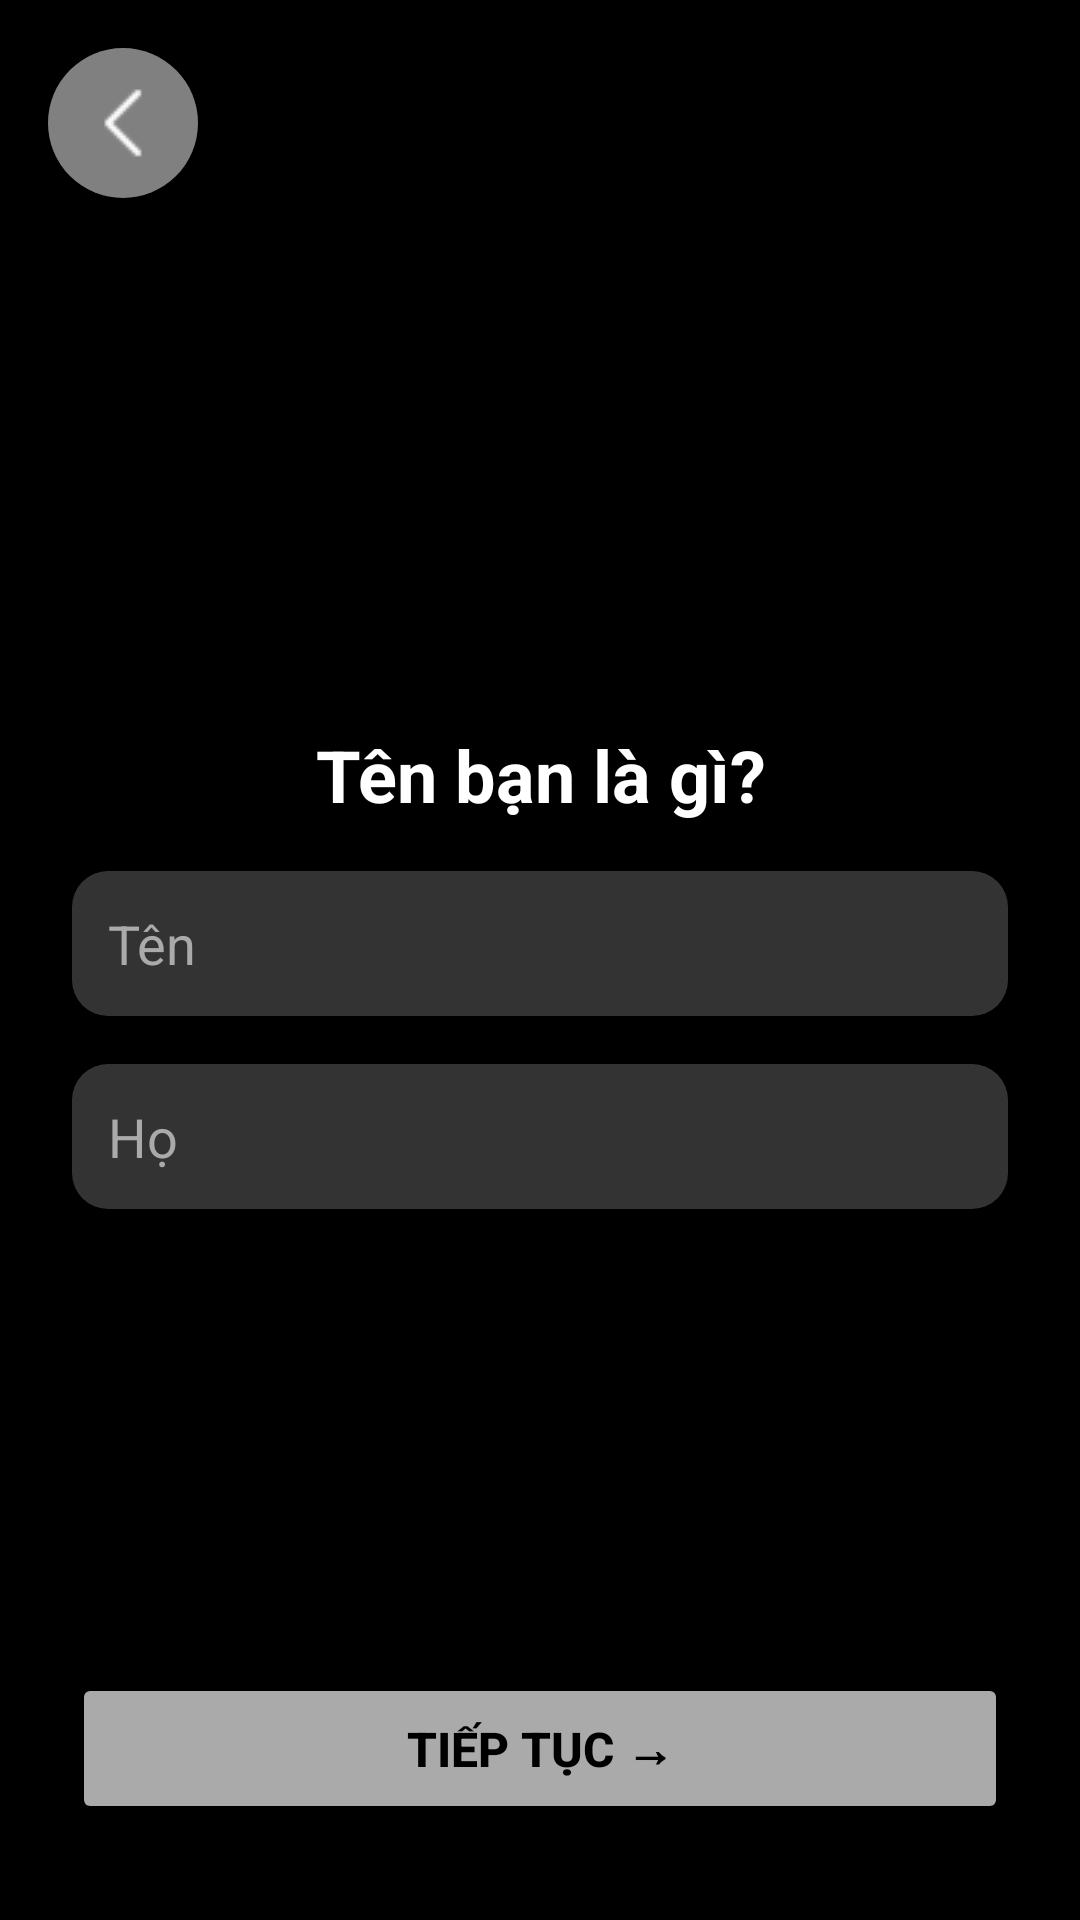

Point at icon controls on the screen. Image size 1080px×1920px, points as [x,y].
Trờ về: [123,123]
